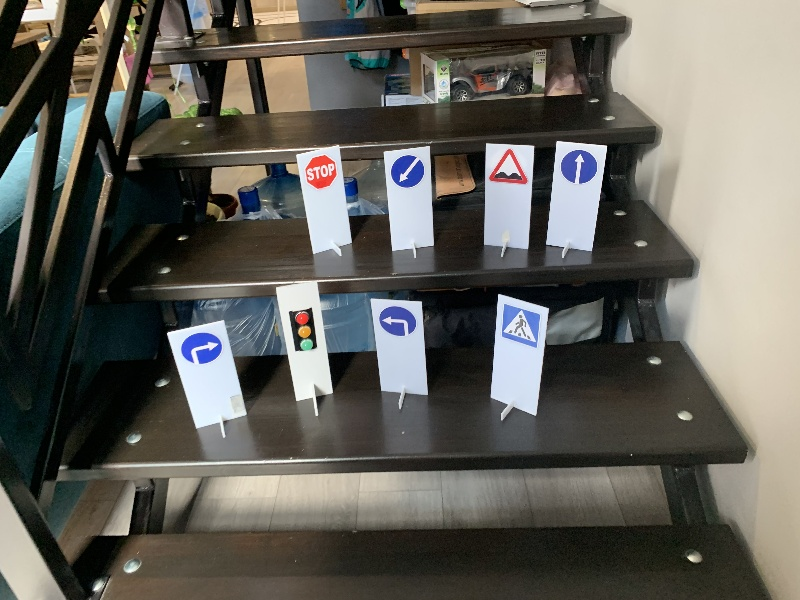Left: (377, 306, 418, 337)
Nerov: (489, 149, 528, 188)
Right: (177, 330, 224, 367)
Stop: (305, 154, 339, 190)
forw: (560, 148, 599, 187)
pesh: (498, 303, 541, 350)
prep: (391, 153, 425, 186)
